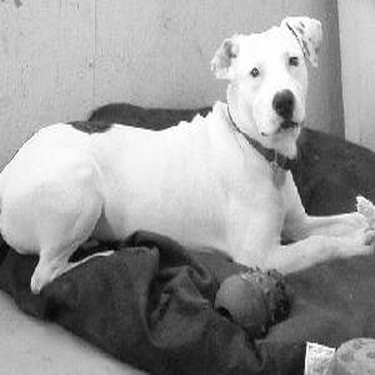cat: (1, 10, 371, 302)
